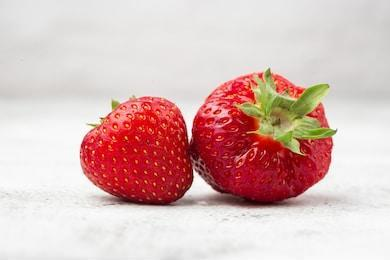Fresa: (188, 68, 336, 210), (74, 90, 195, 210)
